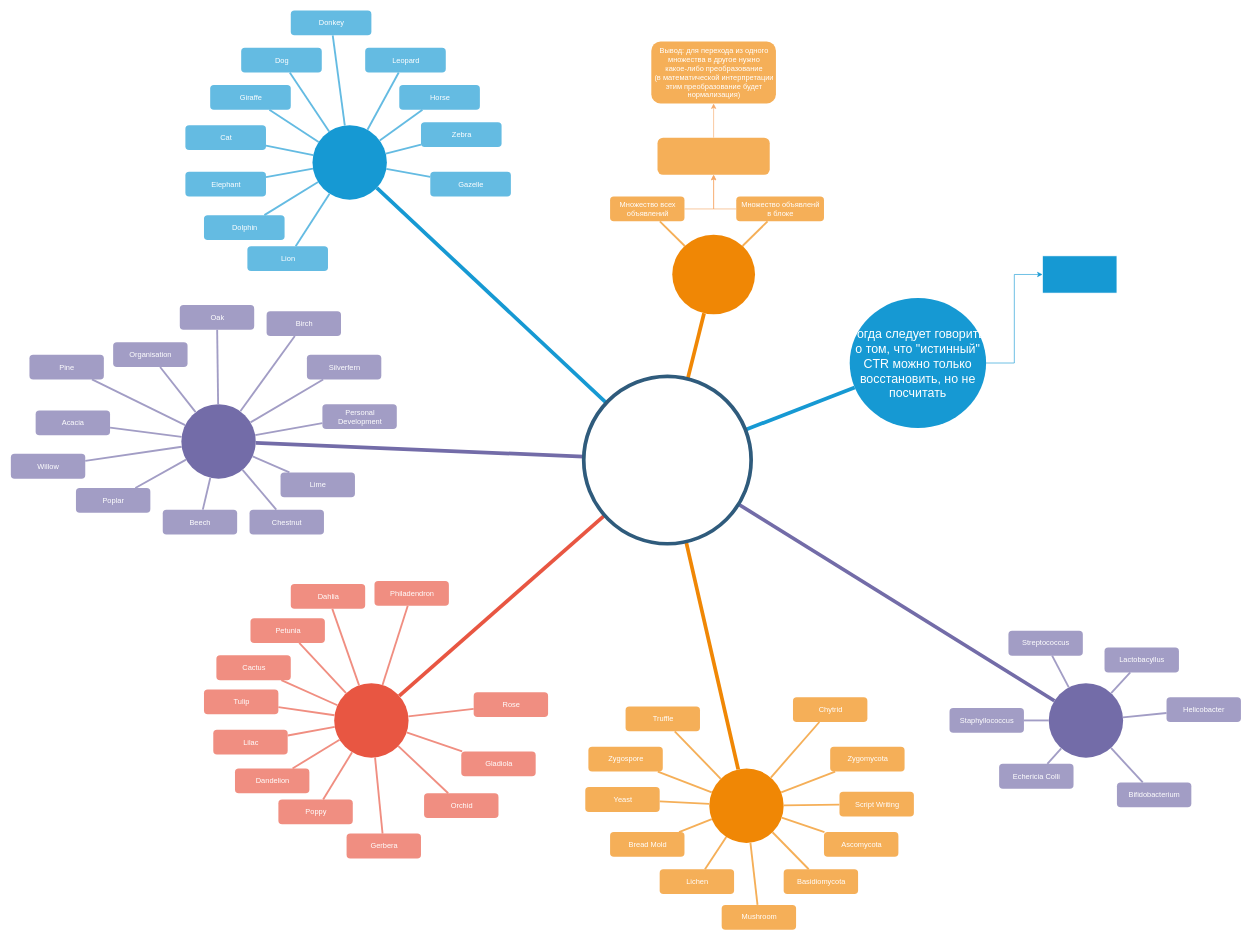
The diagram is 1251 pixels wide and 941 high, and some of its shapes have lost their labels. The centre of each missing label's shape, as x and y in pixels:
"Bacteria" belongs at point 1085,720.
"CTR - вероятность нажатия на рекламу" belongs at point 667,459.
"Flower" belongs at point 371,720.
"Fungi" belongs at point 746,805.
"Mammal" belongs at point 349,162.
"Tree" belongs at point 218,441.
"Множество объявлений в блоке, конечно, входит в множество всех объявлений" belongs at point 713,156.
"Тогда существуют следующие множества" belongs at point 713,274.
